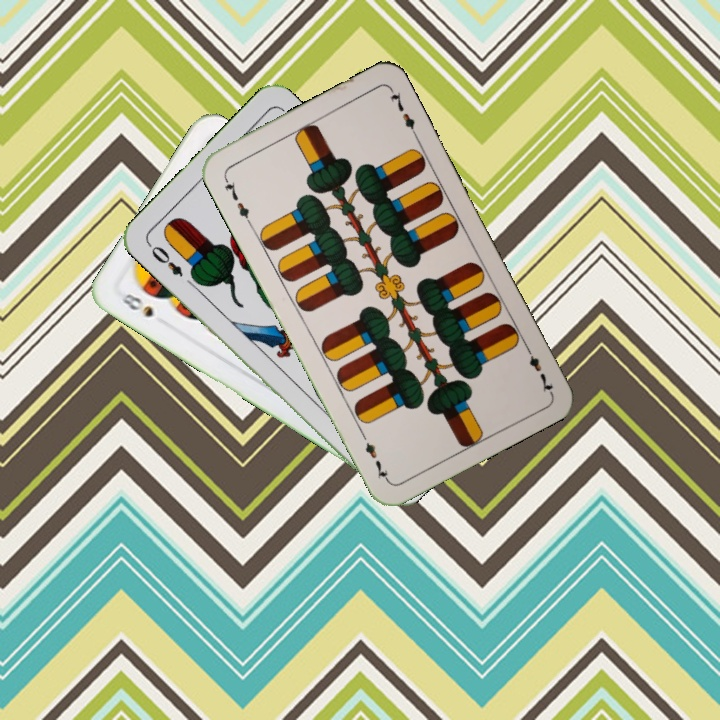E7: (219, 173, 254, 227), (521, 341, 556, 395)
EO: (143, 239, 186, 279)
S8: (117, 289, 157, 321)
